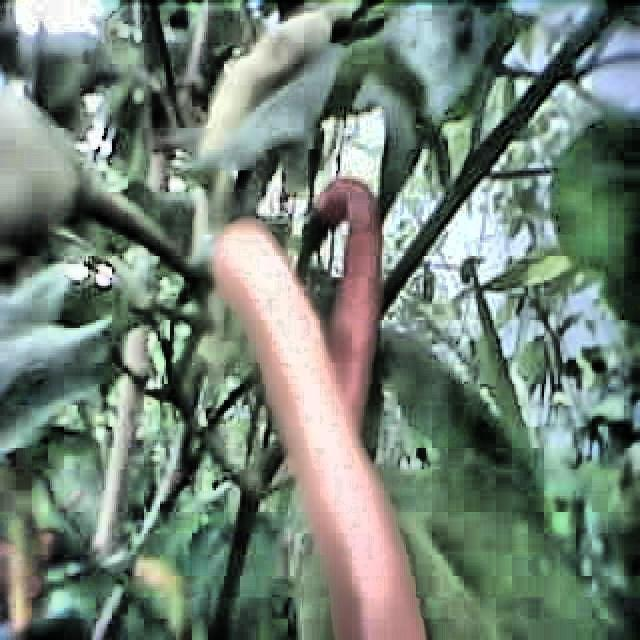Cabai: (215, 216, 415, 640), (197, 3, 328, 157), (314, 172, 394, 415)
